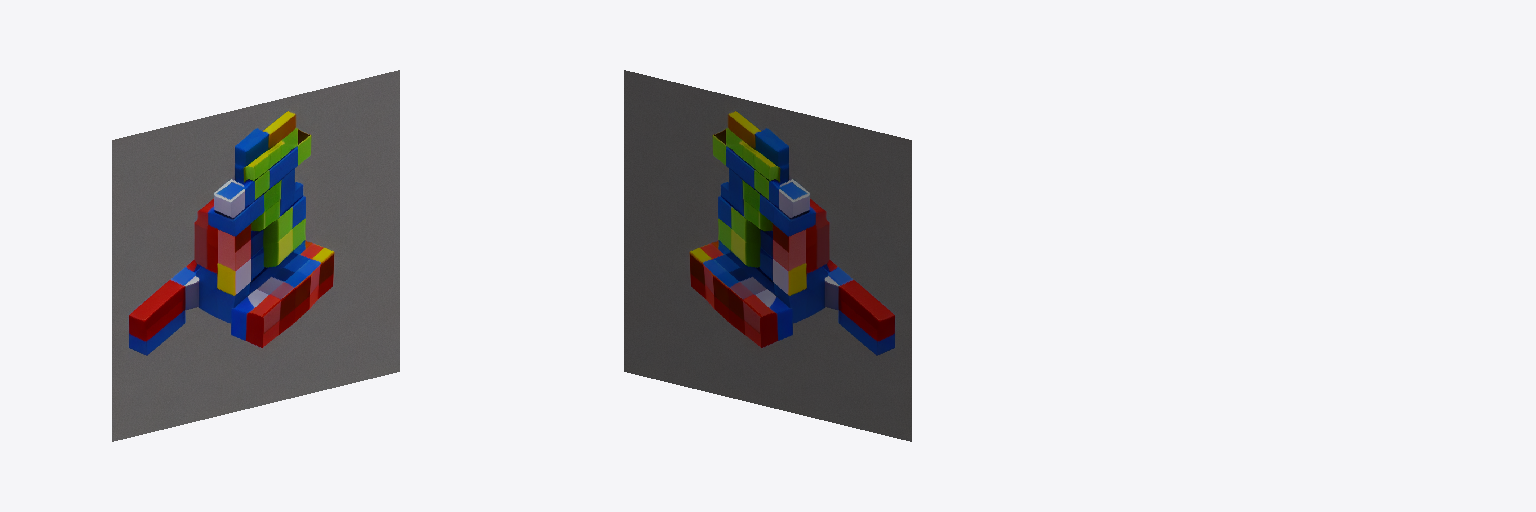
3 renders of one model, left to right at view 1: azimuth 30°, elevation 25°; view 2: azimuth 150°, elevation 25°; view 3: azimuth 270°, elevation 25°, orthographic.
Parts seen in each view (by area): view 1: fallback_quad; view 2: fallback_quad; view 3: none.
Part boxes in pixels (x1,y1,x2,y2): fallback_quad: (112,70,399,441); fallback_quad: (624,70,911,441).
Bounding box in the file's own units: 1 × 1 × 0.
1 materials, 1 textured.